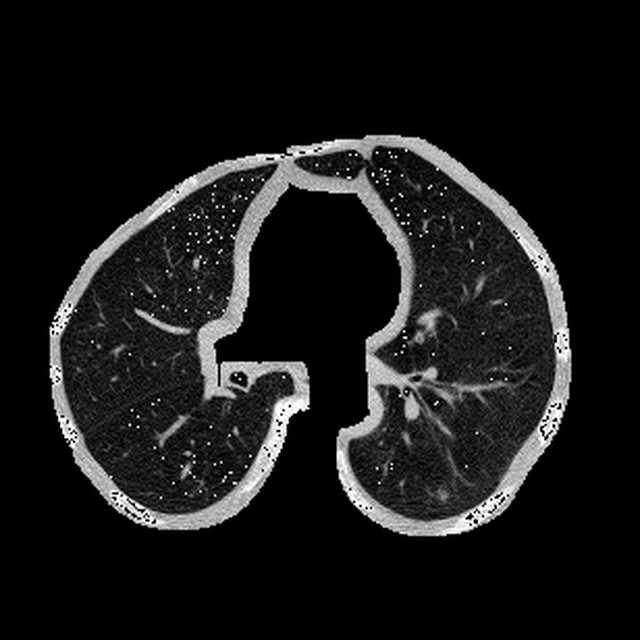PN: (436, 488, 449, 501)
